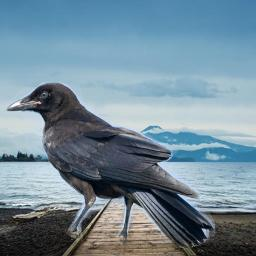Crow: (6, 82, 215, 248)
